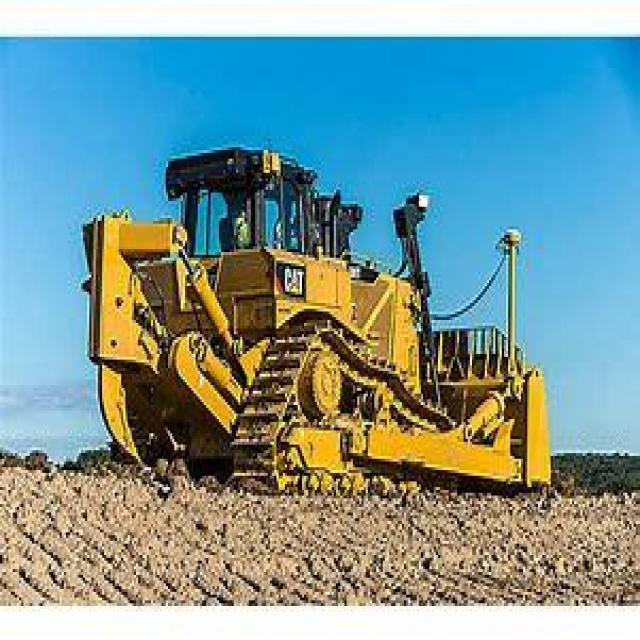Bulldozer: (68, 108, 572, 521)
